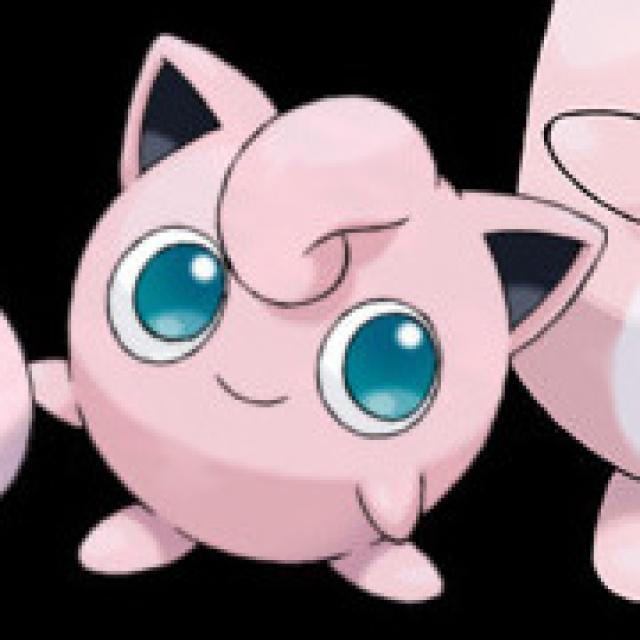Jigglypuff: (34, 37, 542, 595)
